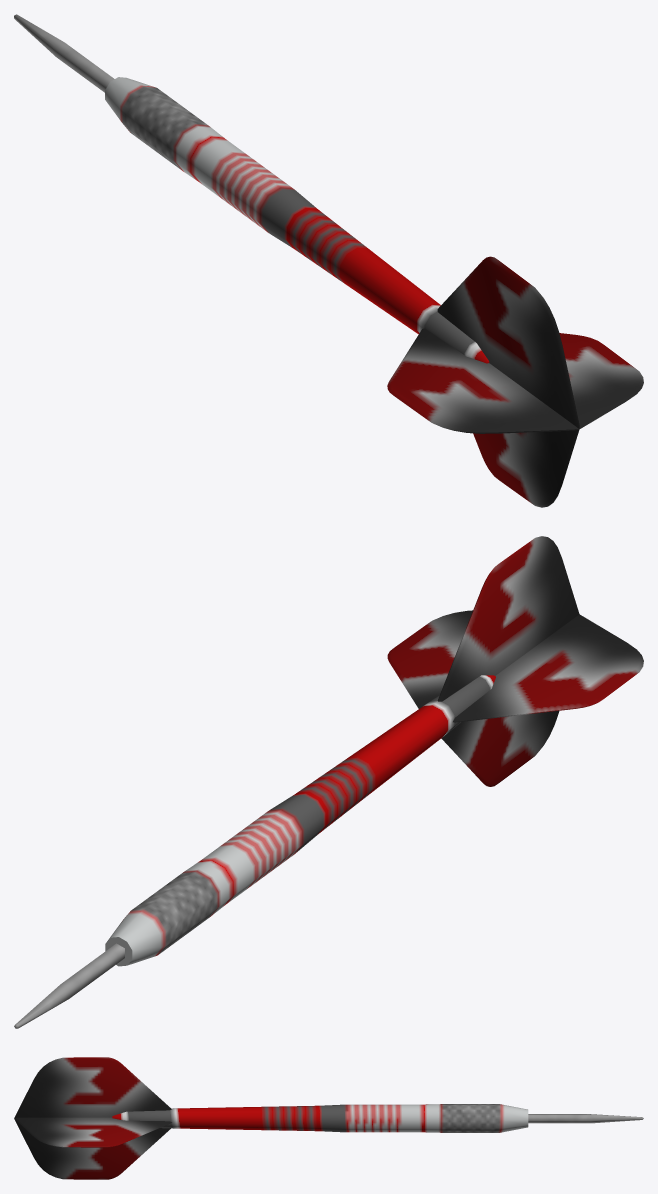
Rendered from DartA.FBX.
3 renders of one model, top to bottom at view 1: azimuth 30°, elevation 25°; view 2: azimuth 150°, elevation 25°; view 3: azimuth 270°, elevation 25°, orthographic. The views are drawn at different scales.
Visible parts, largest first — view 1: DartA_LOD0; view 2: DartA_LOD0; view 3: DartA_LOD0.
Boxes of the visible parts, bbox=[...] form: DartA_LOD0: bbox=[14, 14, 643, 507]; DartA_LOD0: bbox=[14, 536, 643, 1028]; DartA_LOD0: bbox=[14, 1057, 643, 1179].
Size of what is drawn, in the model's own units: 3.33 by 3.33 by 15.51.
